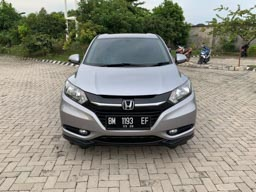plat: (107, 116, 149, 124)
